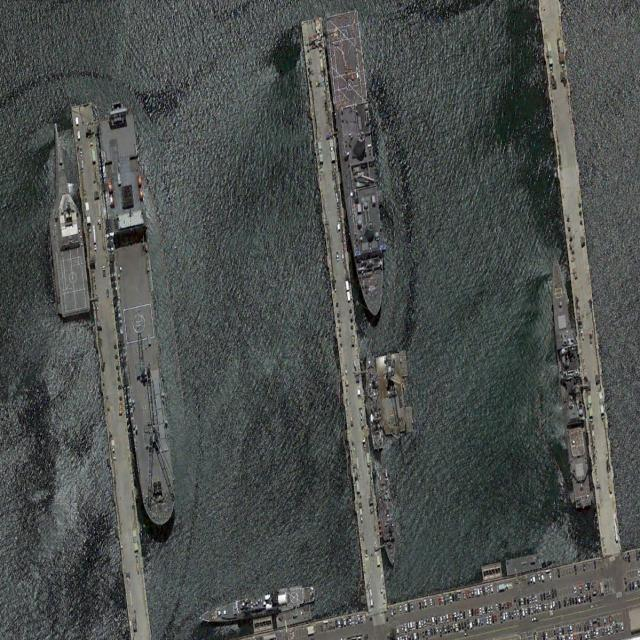Auxiliary Ships: (322, 8, 392, 325)
Cruiser: (544, 251, 596, 511)
Frigate: (37, 118, 91, 322)
Other Ship: (94, 100, 180, 531), (198, 580, 318, 626), (359, 344, 387, 453), (372, 465, 400, 569)
